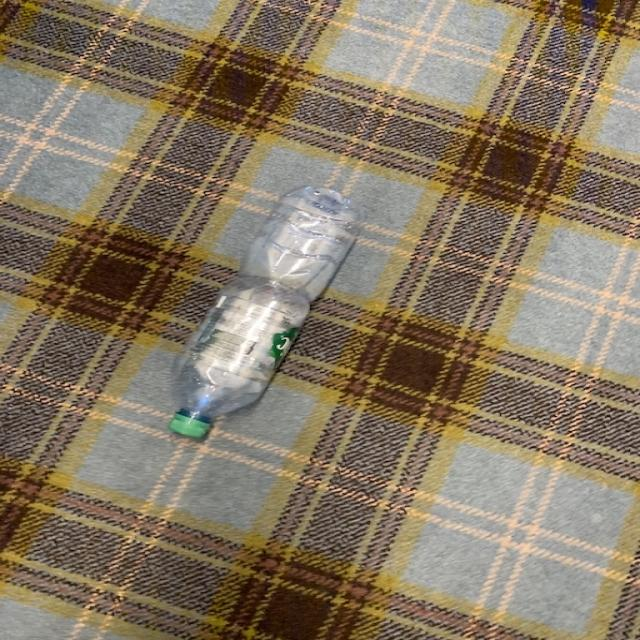litter: (166, 186, 364, 442)
